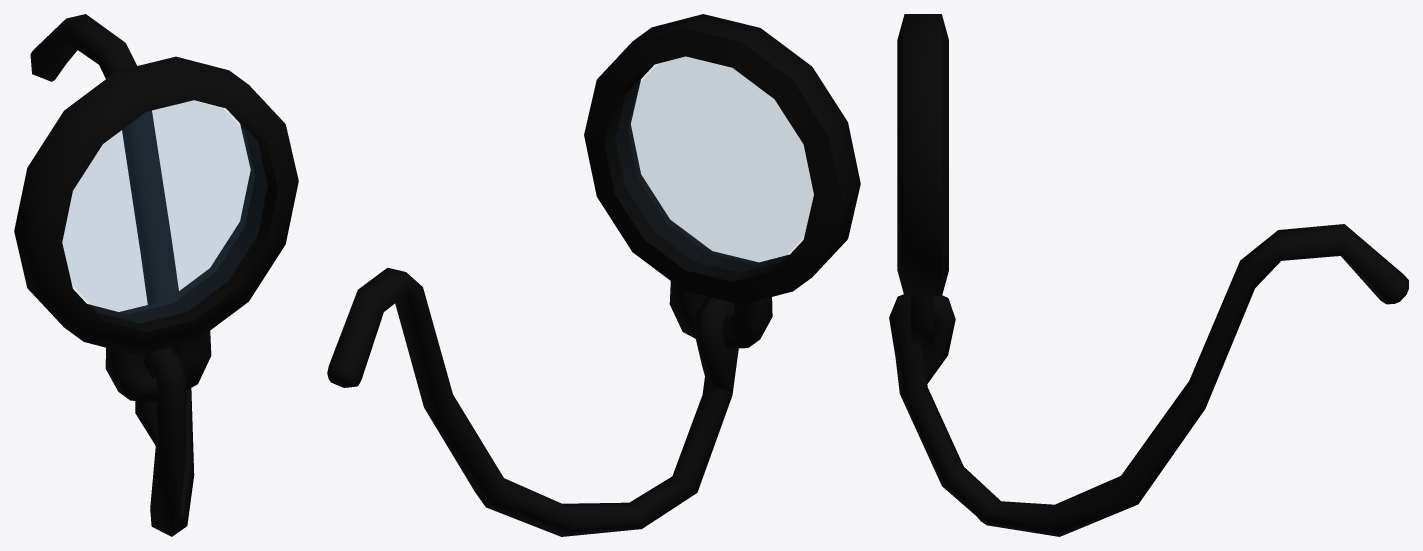
Rendered from Monocle.FBX.
3 renders of one model, left to right at view 1: azimuth 30°, elevation 25°; view 2: azimuth 150°, elevation 25°; view 3: azimuth 270°, elevation 25°, orthographic. The views are drawn at different scales.
Visible parts, largest first — view 1: Monocle; view 2: Monocle; view 3: Monocle.
Boxes of the visible parts, x1,y1,x2,y2 form: Monocle: [14, 14, 298, 536]; Monocle: [327, 14, 860, 536]; Monocle: [889, 14, 1408, 536].
Bounding box in the file's own units: 15.28 × 24.64 × 24.43.
